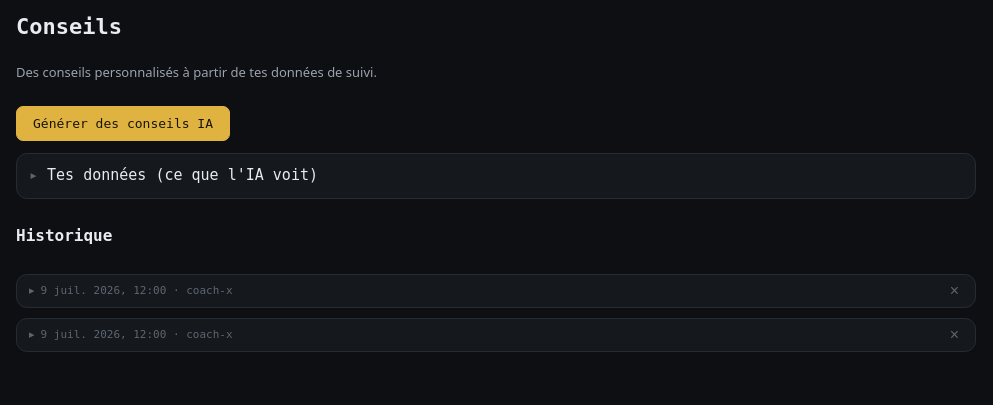
Test: AdvicesPage — delete confirm & archive collapse (B-213/B-214) › renders archive cards collapsed by default; a toggle expands one (B-214)
Expected: the number of buttons named "Supprimer" is 2, top-left (946, 283), bottom-right (963, 299); top-left (946, 327), bottom-right (963, 343)
Expected: the heading "Premier" is not shown
Note: Toggle the first card (the header button carrying aria-expanded) → only it expands.
Click the 1st button "▸ 9 juil. 2026, 12:00 · coach-x": (131, 291) top-left (29, 284), bottom-right (233, 298)
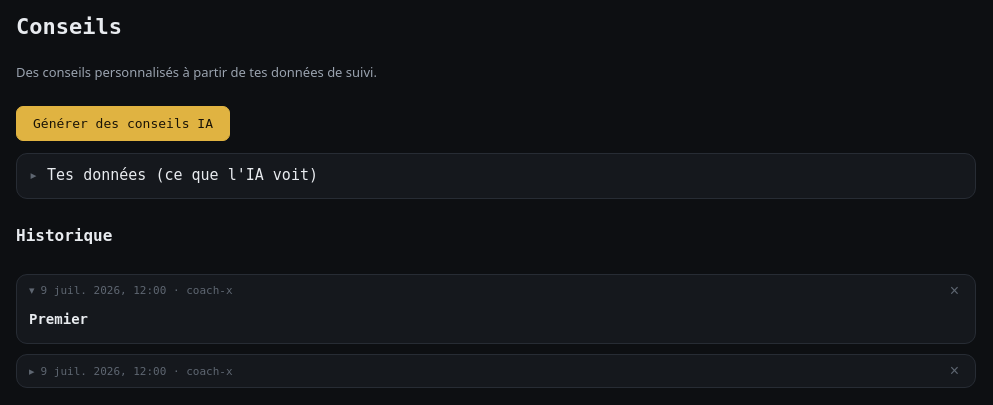
Now the heading "Premier" is shown, box top-left (29, 311), bottom-right (88, 327)
